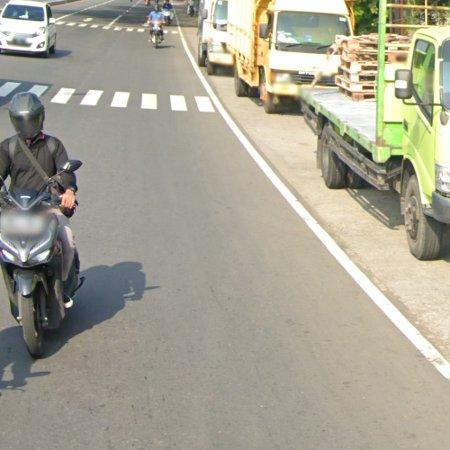crosswalks: (0, 81, 216, 113)
